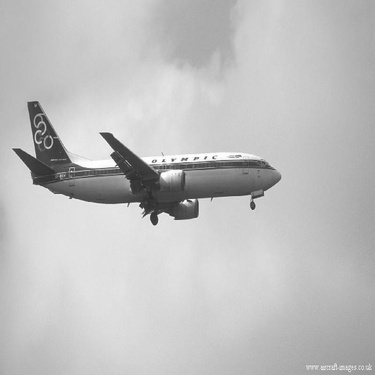airplane: (10, 93, 287, 225)
